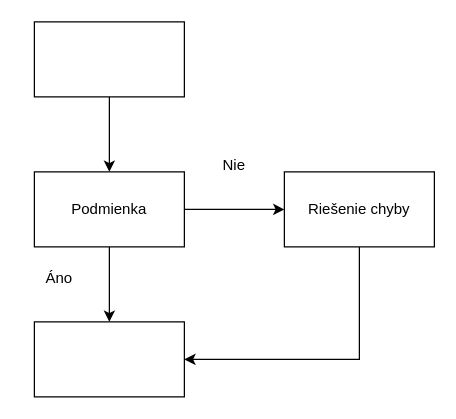
Some shapes in this 456 by 419 pixel diagram are drawn without their labels. The box of each missing label's shape, as (x1, y1, x2, y2) in pixels:
Koniec: (33, 321, 184, 397)
Začiatok: (33, 21, 184, 97)
